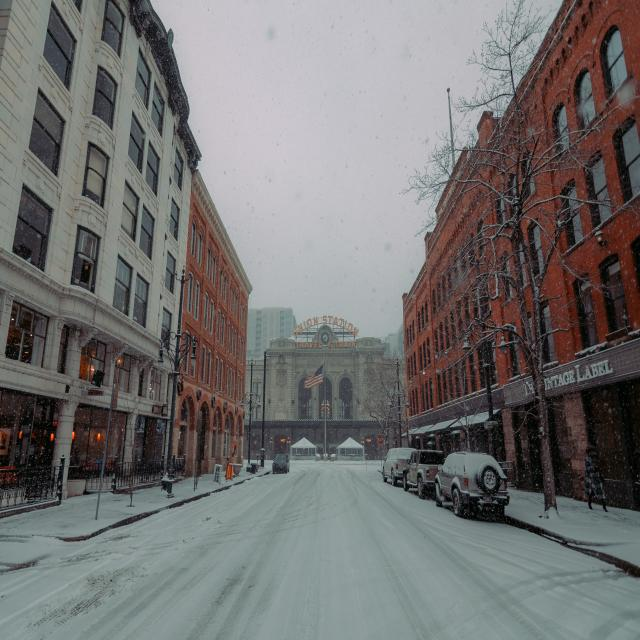Street Light: (462, 316, 510, 492), (157, 330, 198, 499), (240, 392, 261, 474), (389, 389, 410, 467)
